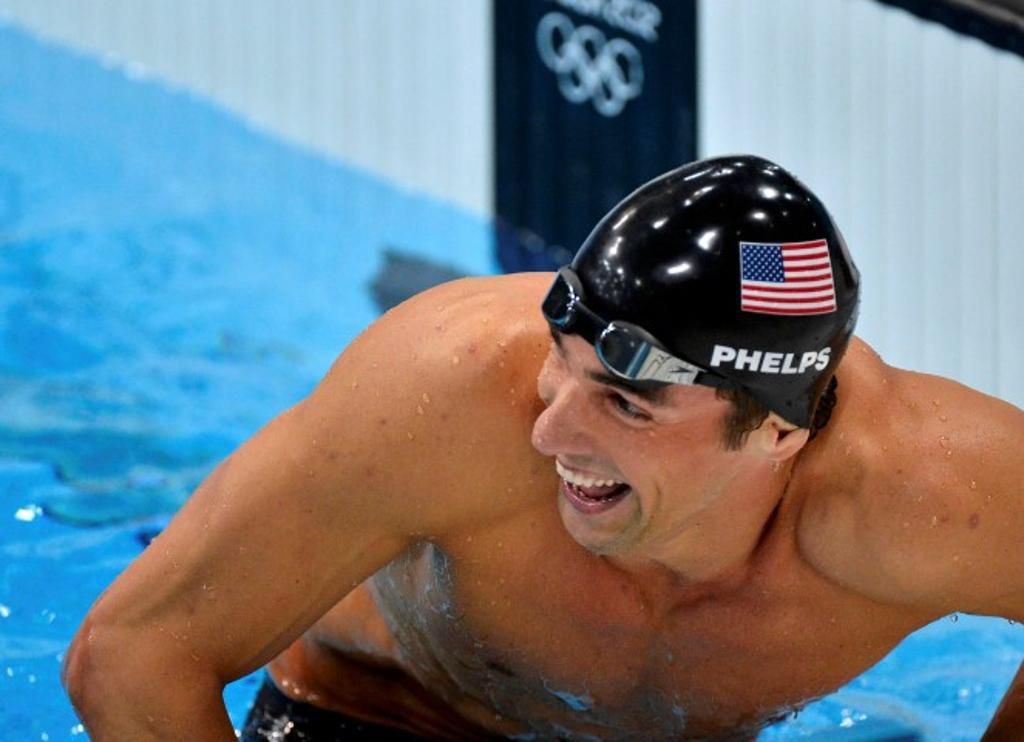face: (533, 291, 705, 557)
